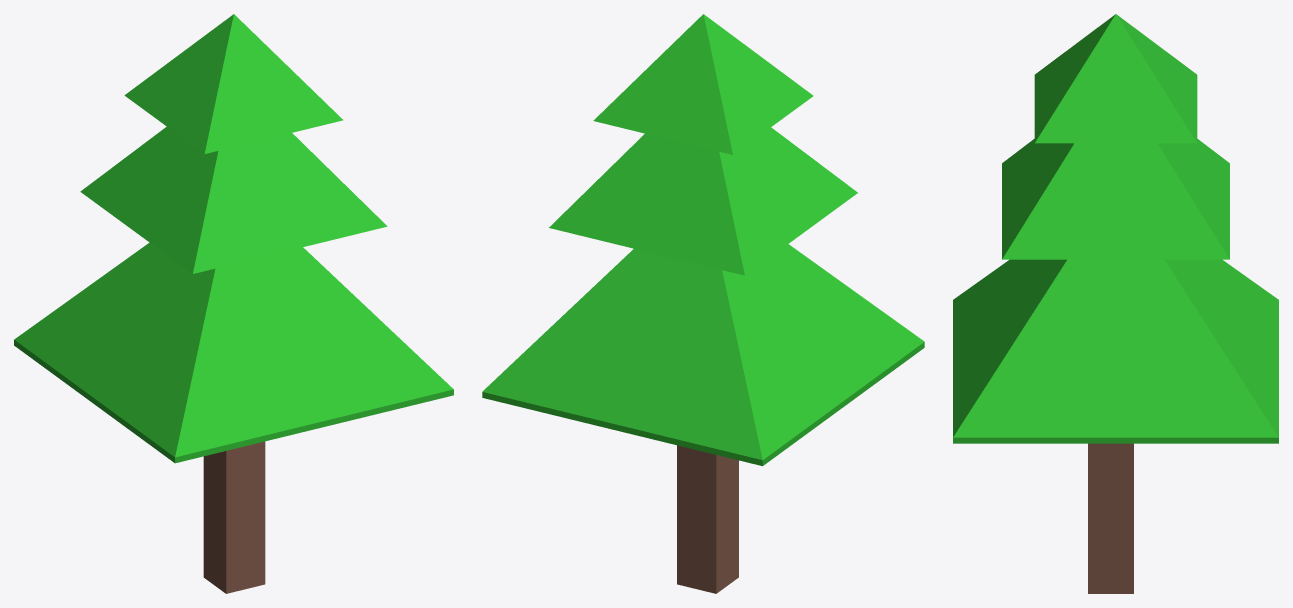
The model's file is Tree02.fbx.
3 renders of one model, left to right at view 1: azimuth 30°, elevation 25°; view 2: azimuth 150°, elevation 25°; view 3: azimuth 270°, elevation 25°, orthographic.
Visible parts, largest first — view 1: 立方体.3907; view 2: 立方体.3907; view 3: 立方体.3907.
Boxes of the visible parts, box(x1,y1,x2,y2) form: 立方体.3907: box(14, 14, 453, 593); 立方体.3907: box(482, 14, 924, 593); 立方体.3907: box(953, 14, 1278, 593).
Bounding box in the file's own units: 119 × 230 × 119.
